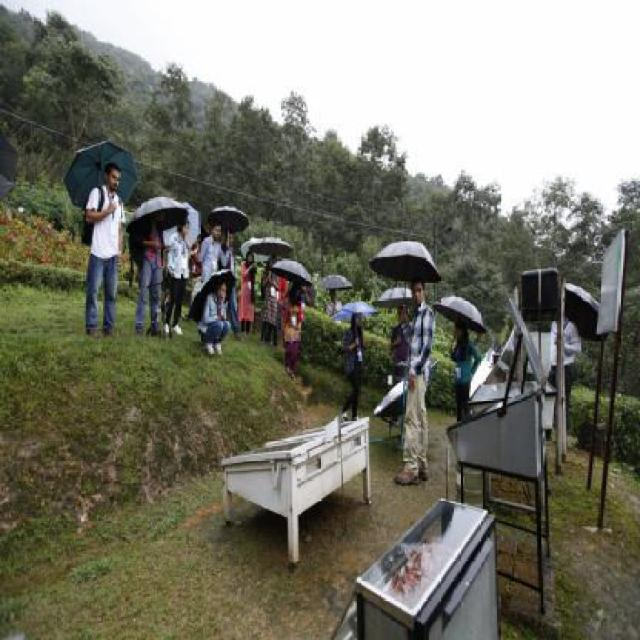Person: (82, 164, 482, 491), (548, 308, 584, 426)
